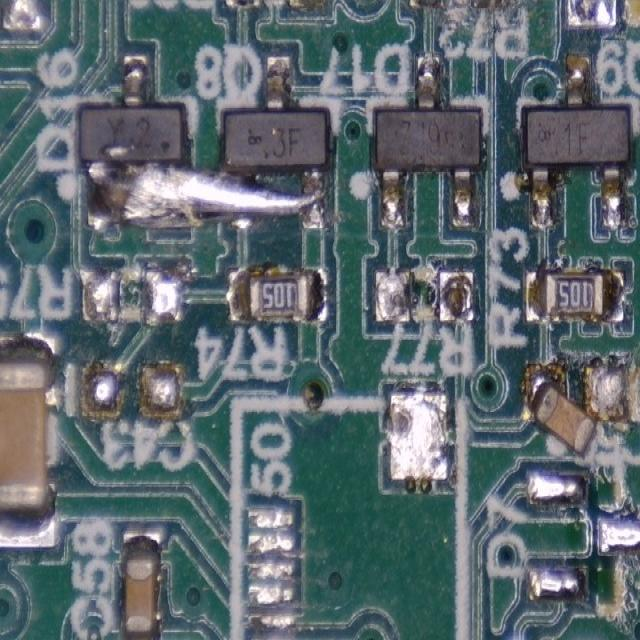Incorrect_installation: (524, 364, 625, 456)
Short_circuit: (90, 162, 315, 228)
